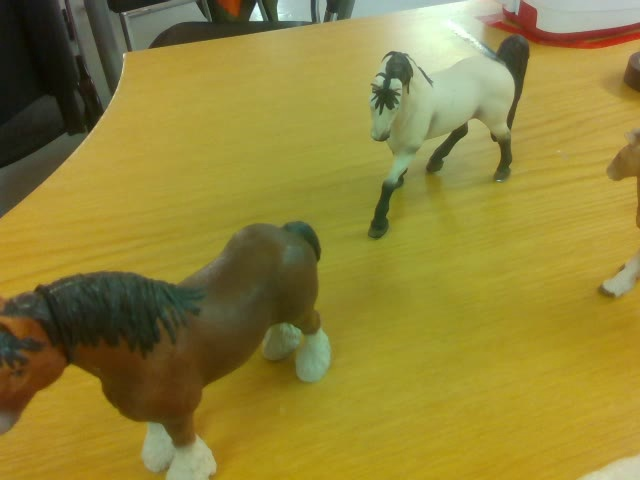toy: (1, 221, 333, 479), (366, 34, 531, 241)
